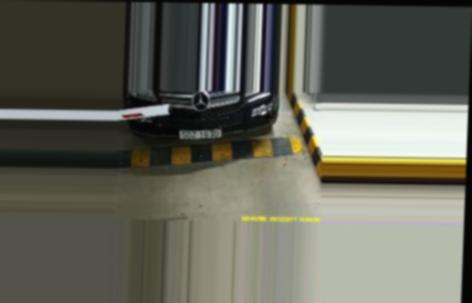License_Plate: (177, 125, 223, 141)
